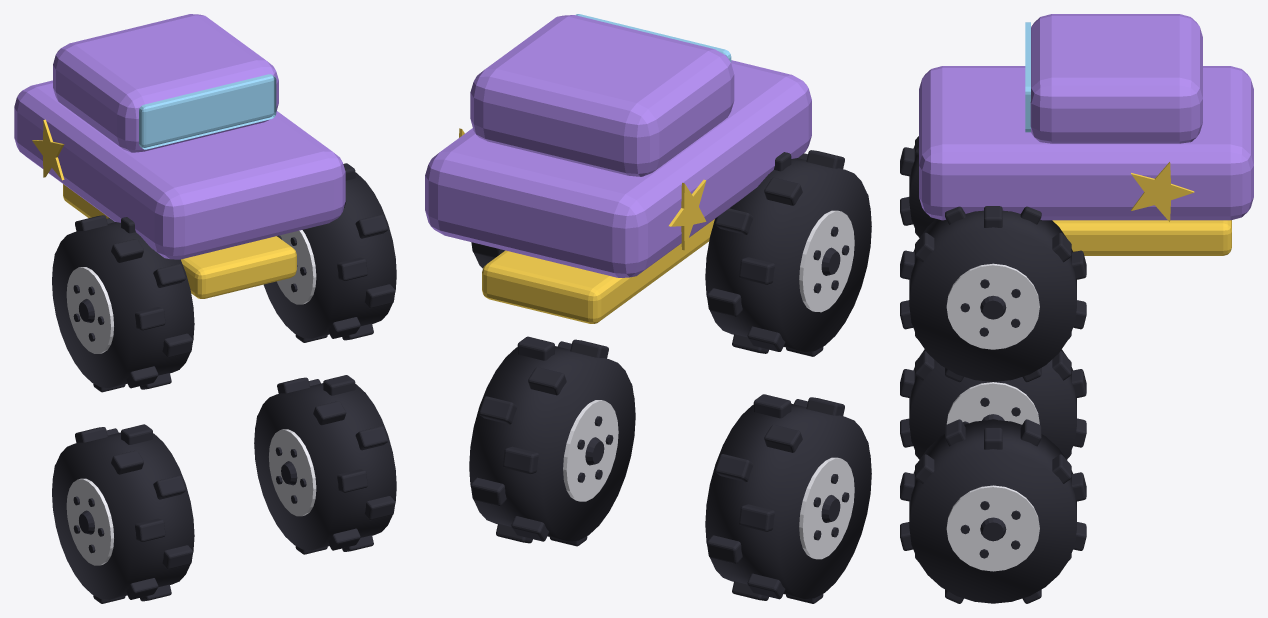
The model's file is Car_Monster.fbx.
The picture shows the model from 3 angles, left to right: view 1: azimuth 30°, elevation 25°; view 2: azimuth 150°, elevation 25°; view 3: azimuth 270°, elevation 25°; orthographic projection. The views are drawn at different scales.
Visible parts, largest first — view 1: Car_Monster, Wheel_FL, Wheel_FR, Wheel_RL, Wheel_RR; view 2: Car_Monster, Wheel_FR, Wheel_FL, Wheel_RL; view 3: Car_Monster, Wheel_FR, Wheel_RR, Wheel_FL, Wheel_RL.
Boxes of the visible parts, box(x1,y1,x2,y2) form: Car_Monster: box(14, 14, 345, 298); Wheel_FL: box(52, 424, 194, 603); Wheel_FR: box(254, 375, 396, 554); Wheel_RL: box(52, 215, 194, 392); Wheel_RR: box(263, 163, 396, 342); Car_Monster: box(425, 14, 811, 323); Wheel_FR: box(469, 336, 635, 546); Wheel_FL: box(705, 394, 871, 603); Wheel_RL: box(705, 150, 871, 356); Car_Monster: box(919, 14, 1253, 255); Wheel_FR: box(900, 419, 1086, 603); Wheel_RR: box(900, 206, 1086, 382); Wheel_FL: box(900, 349, 1086, 459); Wheel_RL: box(900, 136, 935, 237).
Size of the model in its own units: 1.17 by 1.89 by 1.22.
